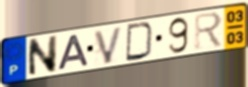9: (167, 16, 190, 55)
A: (55, 33, 91, 72)
D: (124, 21, 156, 63)
N: (27, 34, 59, 78)
R: (193, 10, 225, 51)
V: (93, 25, 125, 66)
